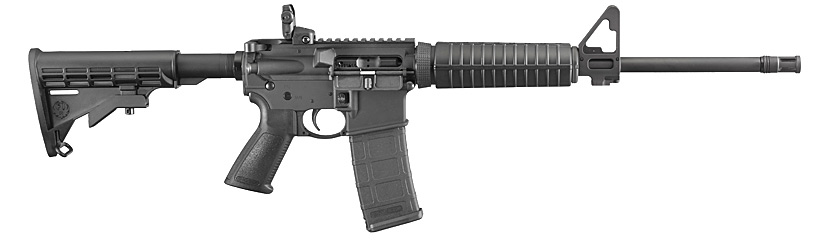Rifle: (21, 5, 807, 237)
